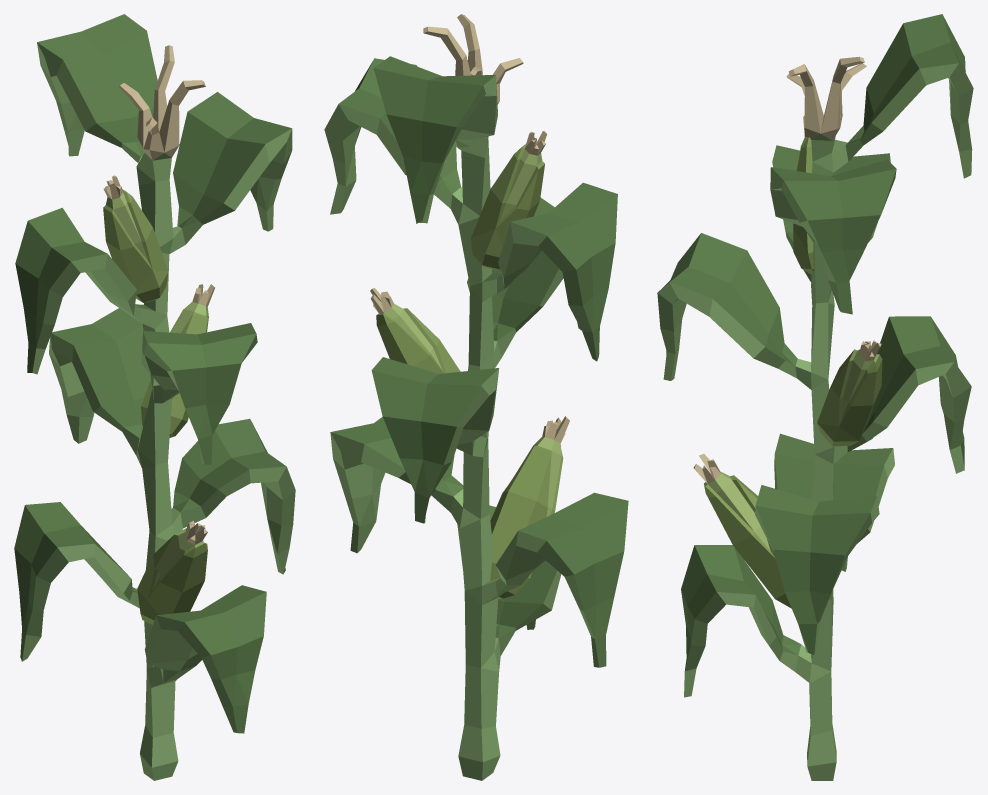
File: SM_Env_Plant_Corn_01.fbx
The picture shows the model from 3 angles, left to right: view 1: azimuth 30°, elevation 25°; view 2: azimuth 150°, elevation 25°; view 3: azimuth 270°, elevation 25°; orthographic projection. The views are drawn at different scales.
Visible parts, largest first — view 1: SM_Env_Plant_Corn_01; view 2: SM_Env_Plant_Corn_01; view 3: SM_Env_Plant_Corn_01.
Boxes of the visible parts, x1,y1,x2,y2 form: SM_Env_Plant_Corn_01: (14, 14, 295, 780); SM_Env_Plant_Corn_01: (324, 14, 628, 780); SM_Env_Plant_Corn_01: (657, 14, 973, 780).
Size of the model in its own units: 81.37 by 215 by 83.75.
